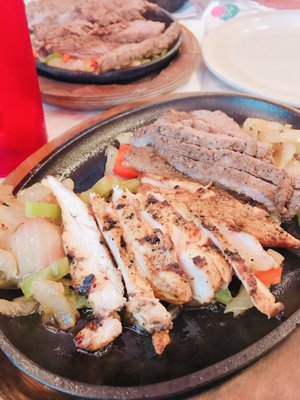curry: (0, 2, 300, 377)
sandwich: (24, 0, 182, 78)
